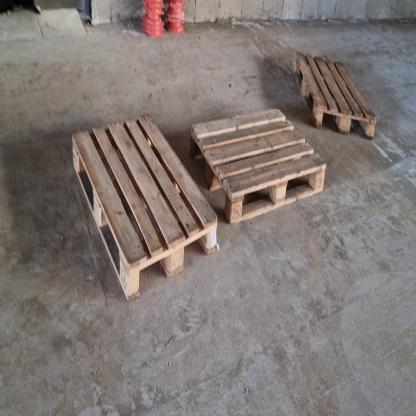BoxFace: (72, 110, 218, 304), (189, 106, 328, 227), (291, 50, 379, 141)
